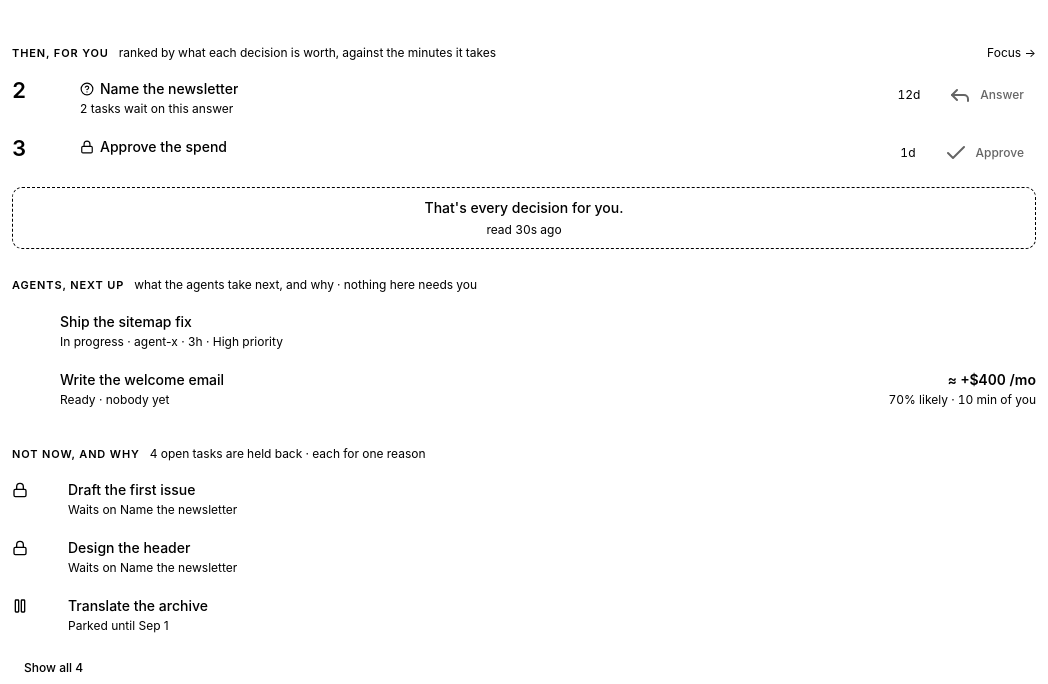
Test: the Next tab › holds back each task for one reason, three rows first, then Show all
This screenshot has width=1048, height=684.
(page scrolled)
Expected: the element that starts with "Not now, and why" shows "4 open tasks are held back · each for one reason", [150,446,426,461]
Click the button "Show all 4" at (54, 668), box [12,652,95,683]
(page scrolled)
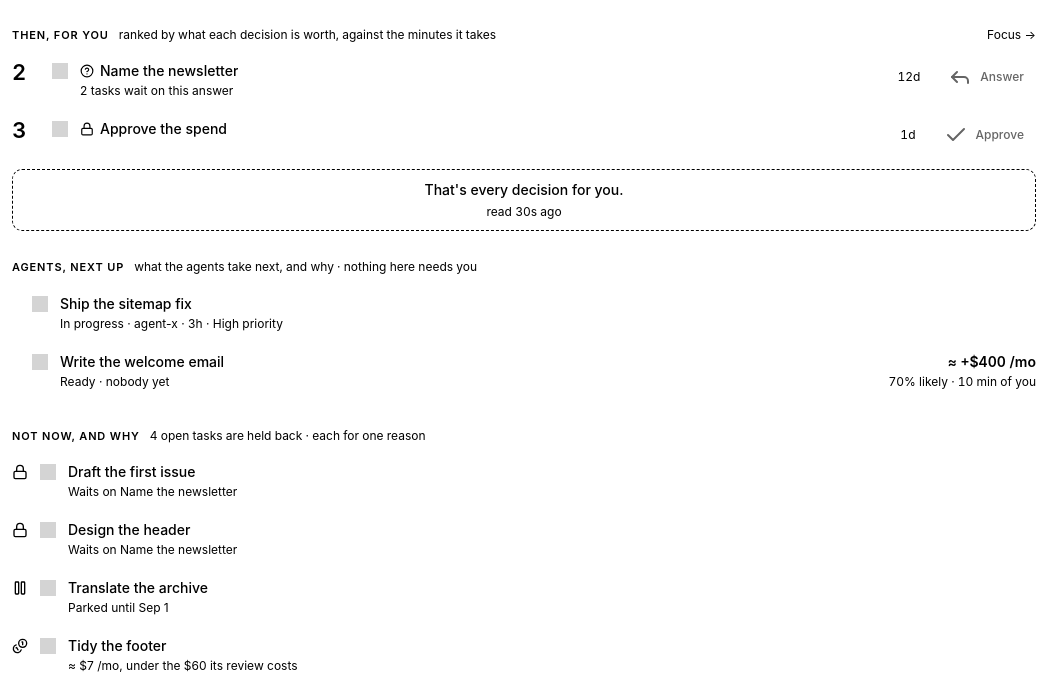
Expected: the list item "Draft the first issue Waits on Name the newsletter" is shown, [12,463,237,499]
Result: the list item "Tidy the footer ≈ $7 /mo, under the $60 its review costs" is shown at [12,637,298,673]
Result: the button "Show all" is gone
